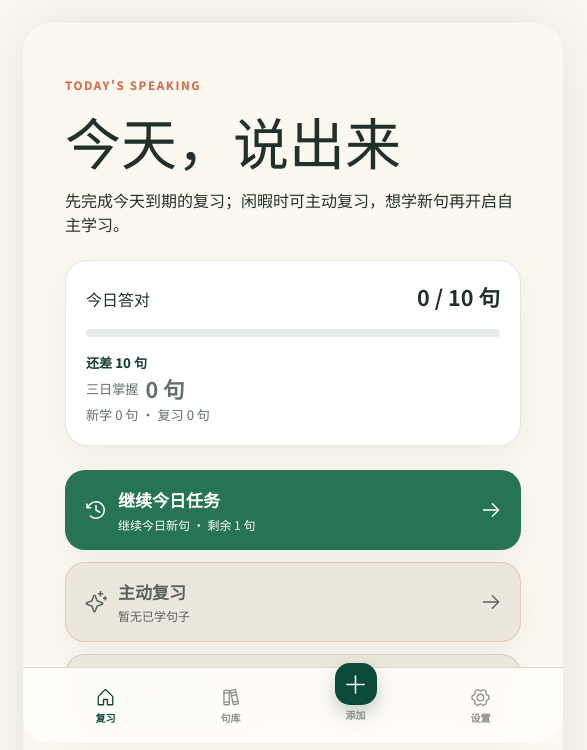
PhraseBankApp › resumes the daily checkpoint without consuming the autonomous checkpoint
This screenshot has width=587, height=750.
Click the button "继续今日任务 继续今日新句 · 剩余 1 句" at (169, 500), box [65,470,521,550]
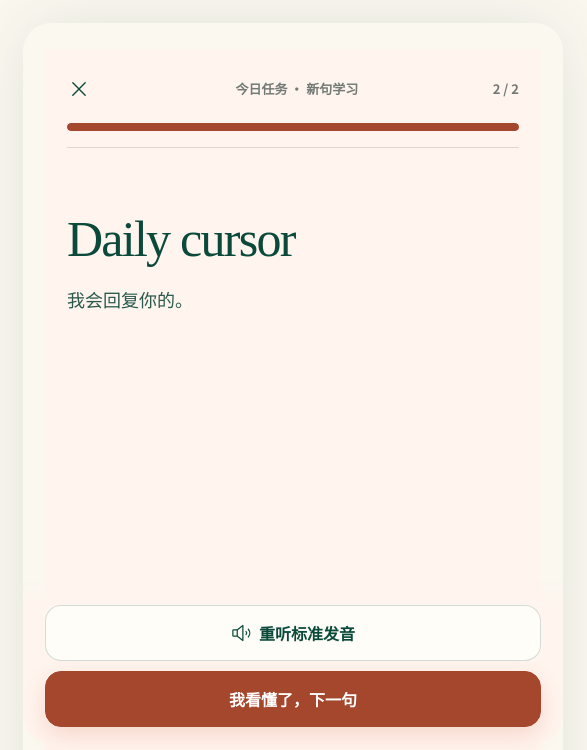
Now the heading "Daily cursor" is shown, box [67,211,294,267]
Now the text "今日任务 · 新句学习" is shown, box [235,79,358,99]
